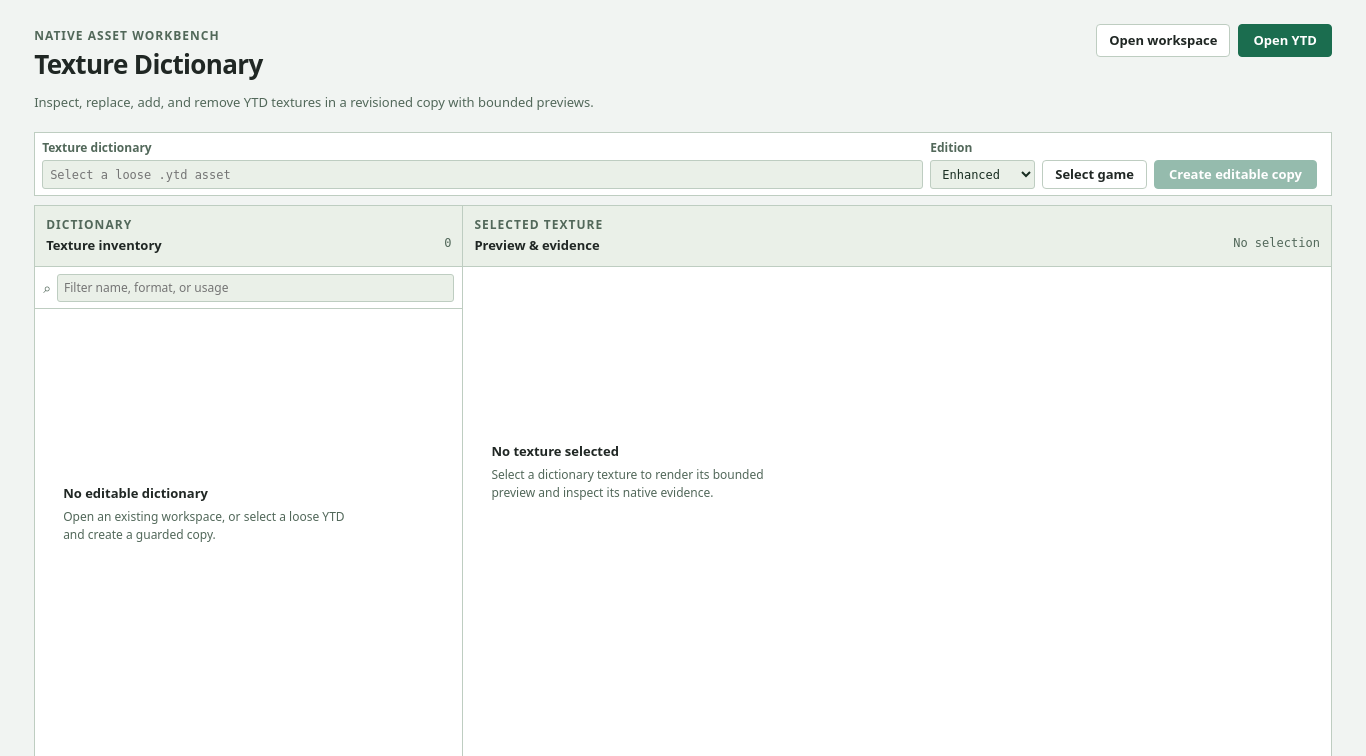
keeps a stale failed batch as a draft but requires a new review
Step 1. Click the button "Open workspace" → (1163, 40), box left=1096, top=24, right=1230, bottom=57
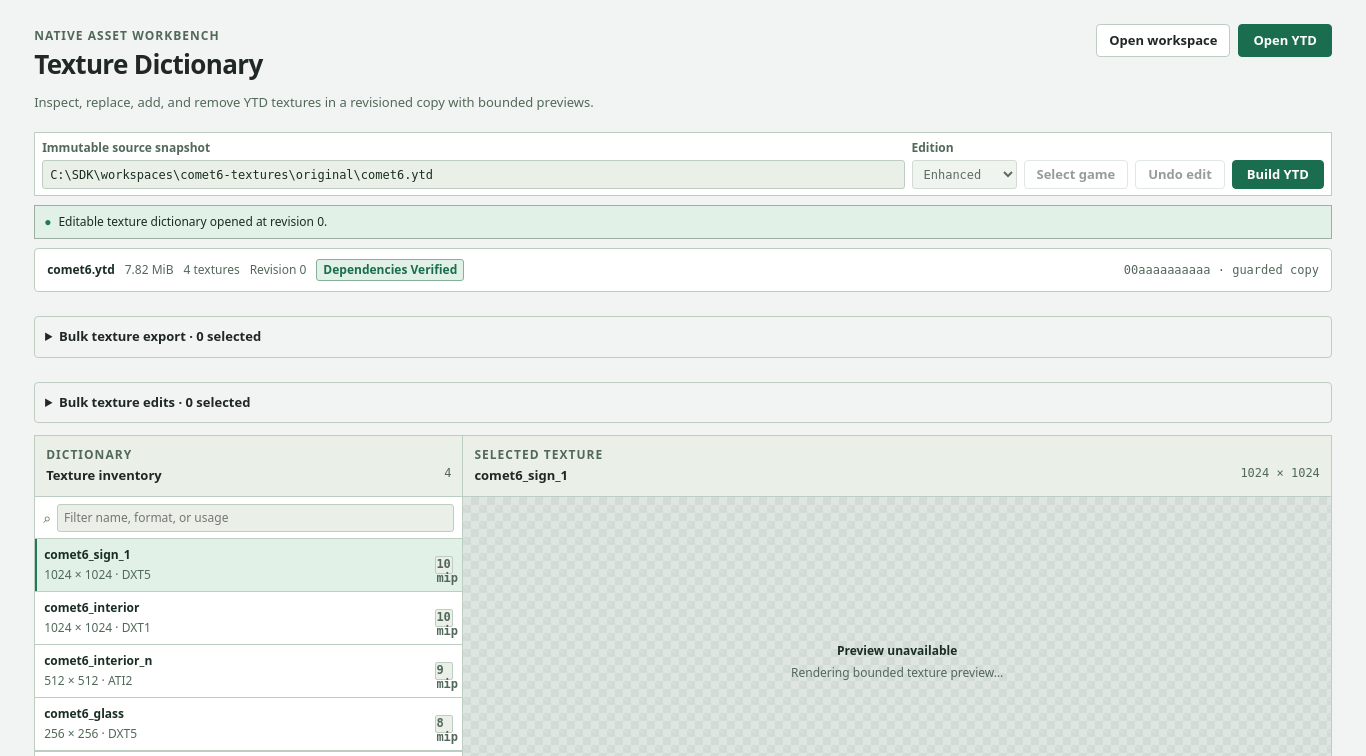
Now the list named "Textures" is shown, box left=35, top=539, right=462, bottom=752
Step 2. Click the heading "Bulk texture edits · 0 selected" → (155, 402), box left=59, top=393, right=250, bottom=411
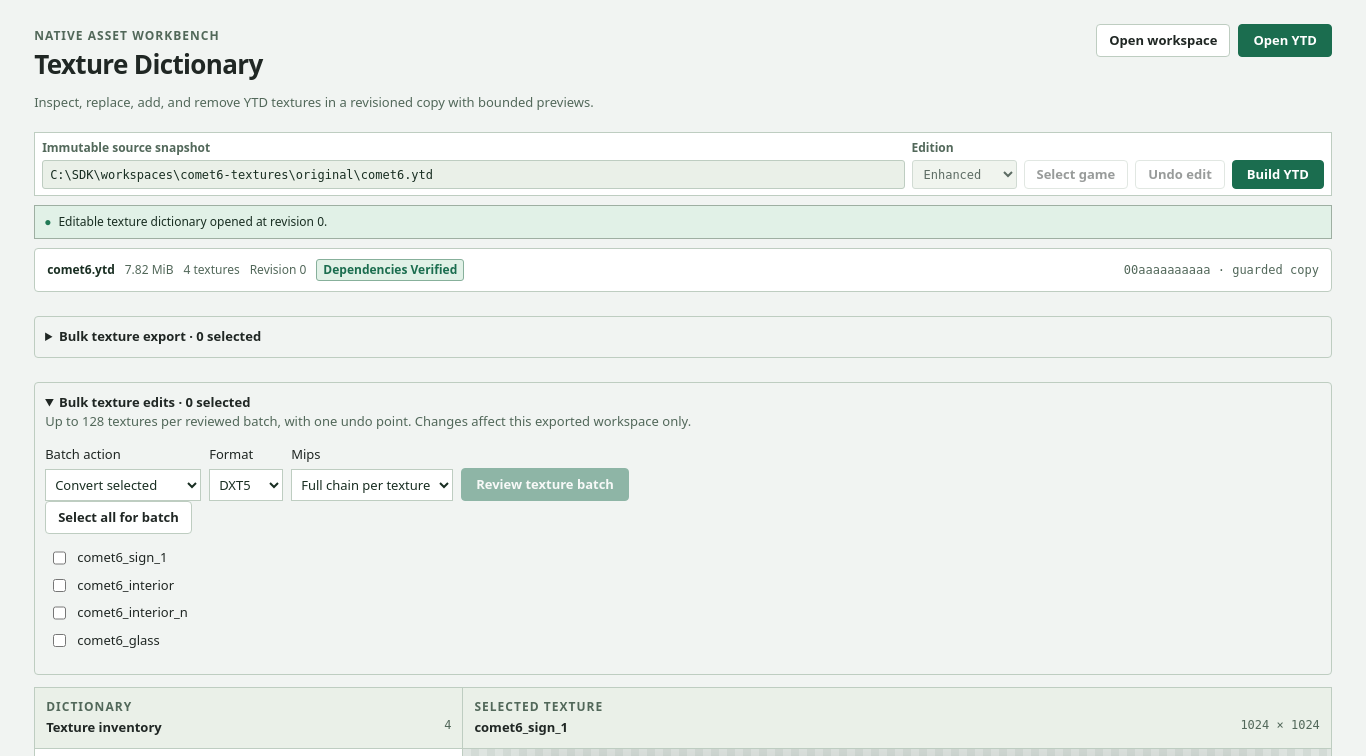
Step 3. Click the button "Select all for batch" → (118, 518), box left=45, top=501, right=192, bottom=534
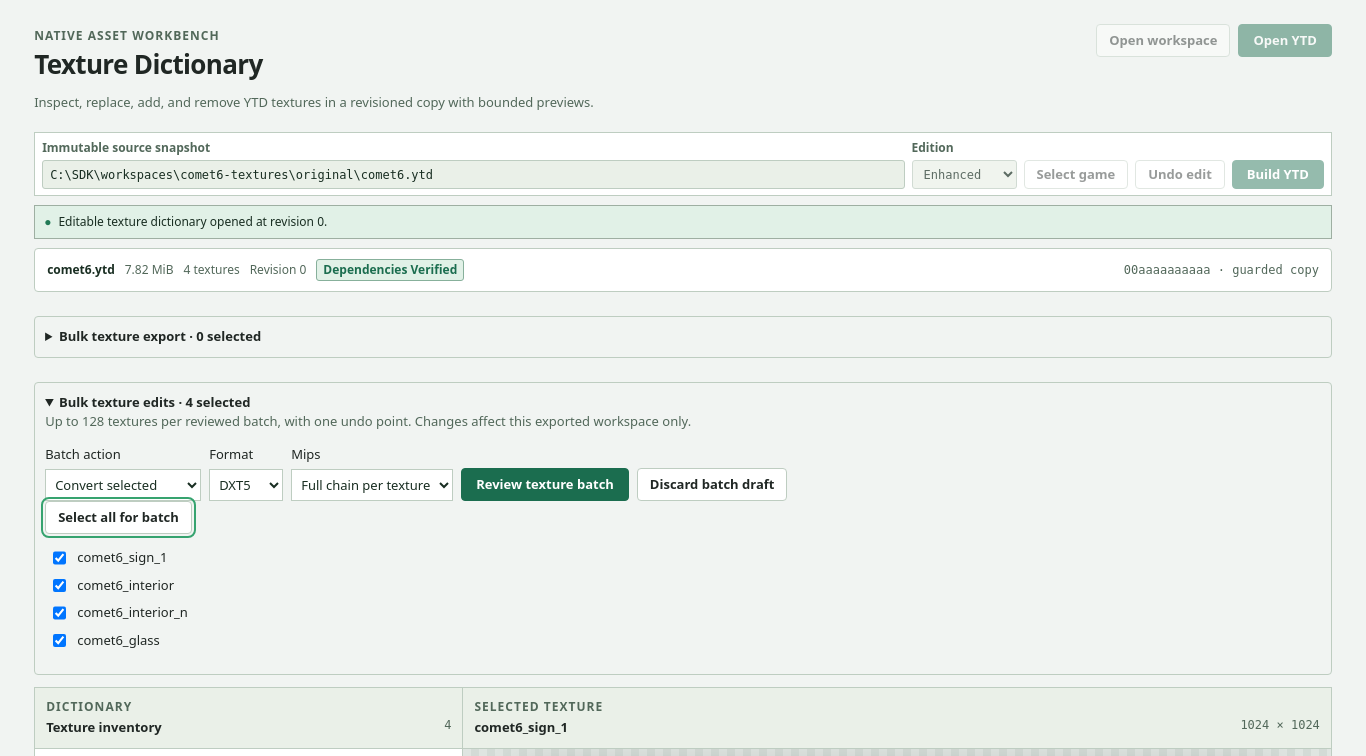
Step 4. Click the button "Review texture batch" → (545, 485), box left=461, top=468, right=629, bottom=501
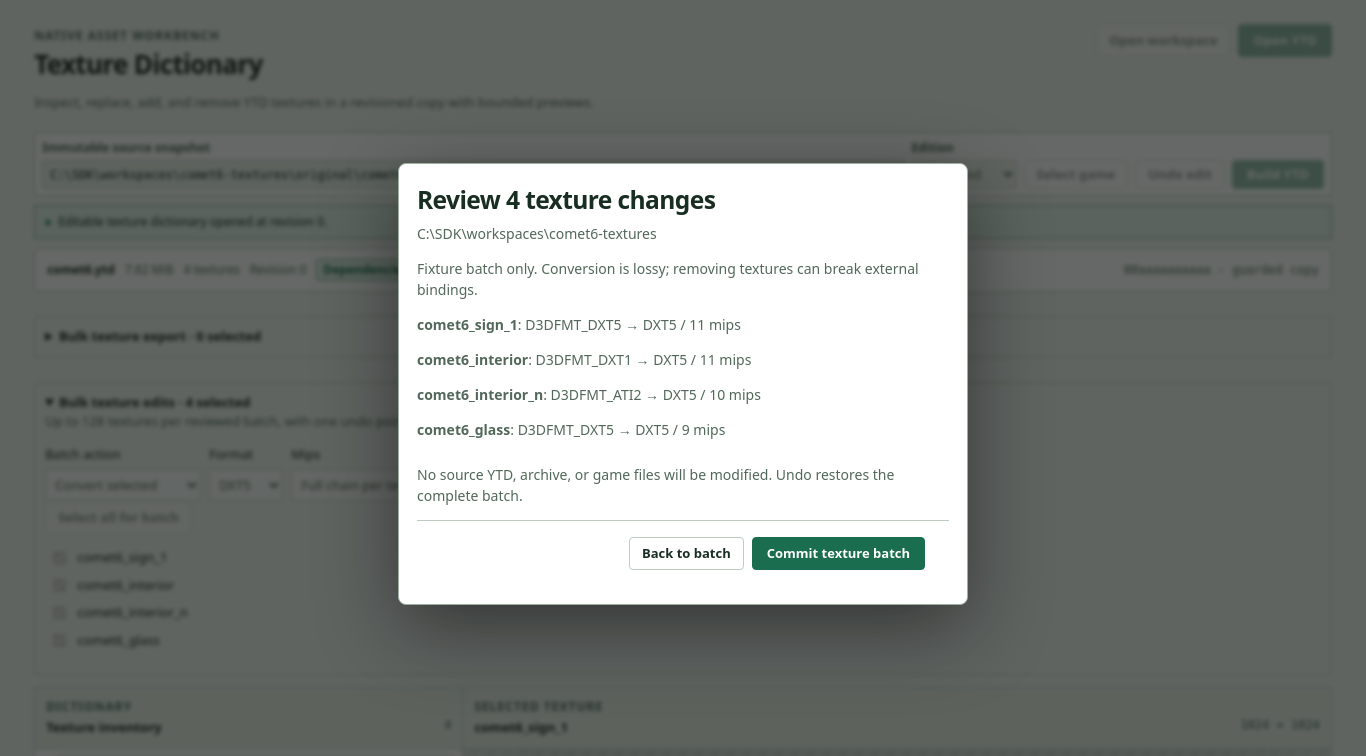
Step 5. Click the button "Commit texture batch" → (838, 553), box left=752, top=537, right=925, bottom=570
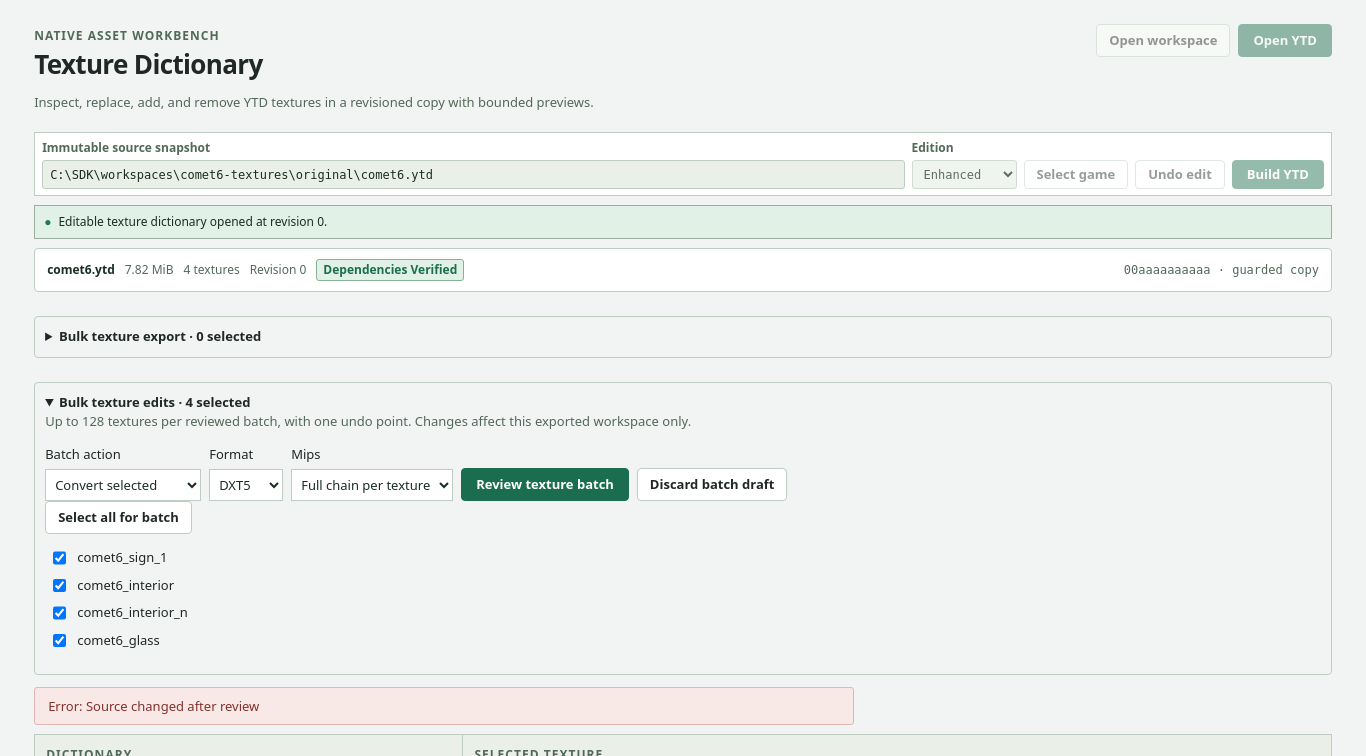
Now the button "Discard batch draft" is enabled
Now the message "Error: Source changed after review" is shown, box left=34, top=687, right=854, bottom=725
Now the dialog is gone
Step 6. Click the button "Discard batch draft" → (712, 485), box left=637, top=468, right=788, bottom=501
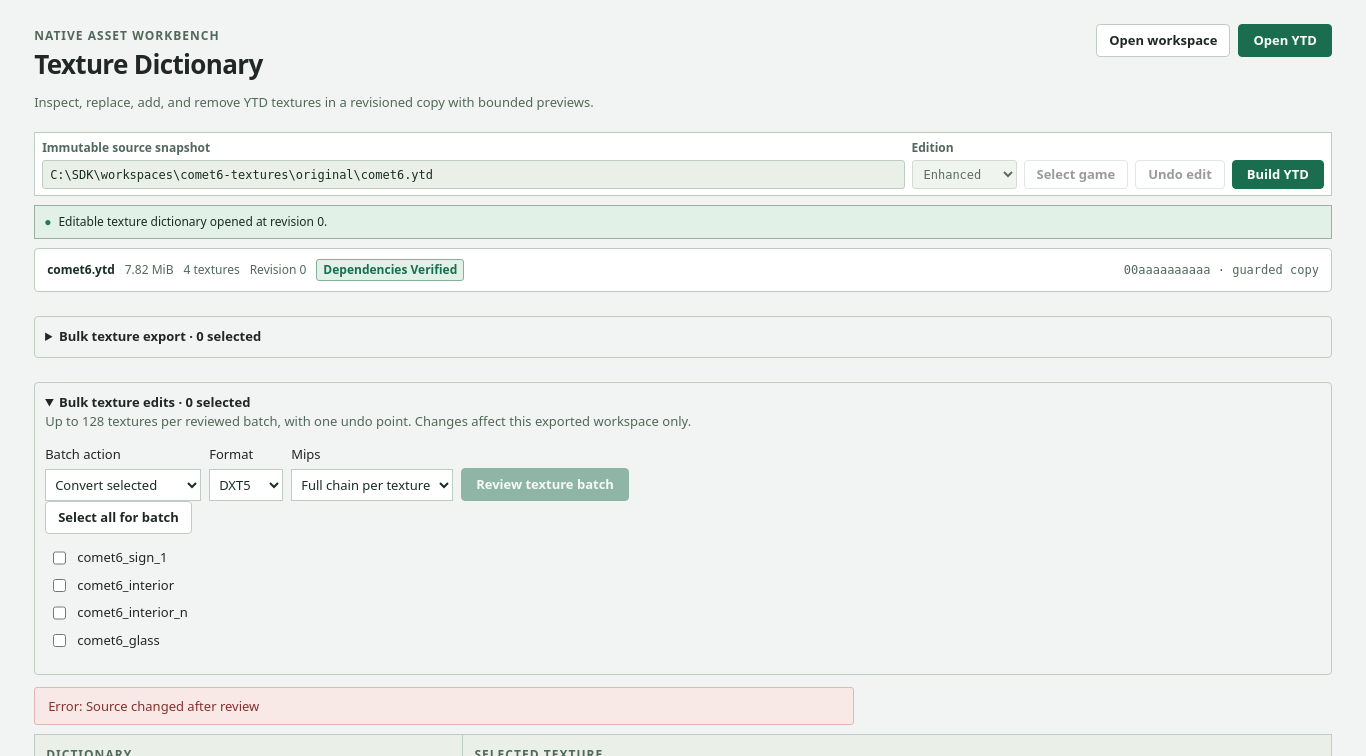
Now the button "Open workspace" is enabled, box left=1096, top=24, right=1230, bottom=57
